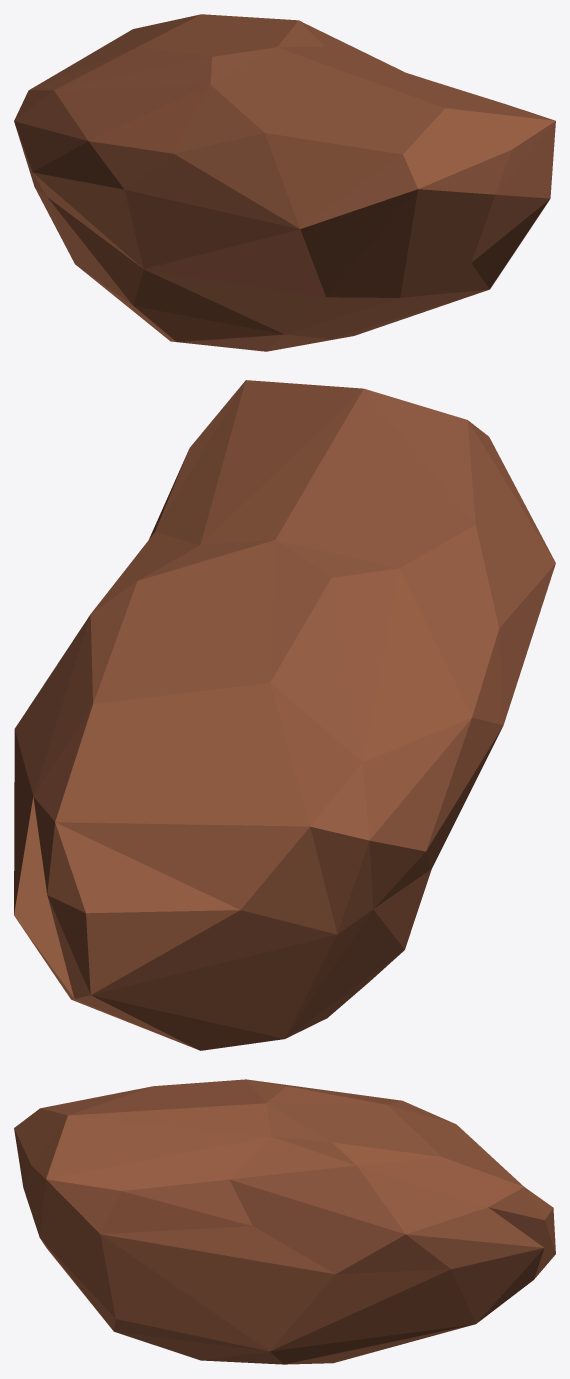
File: Asteroid.007.fbx
3 renders of one model, top to bottom at view 1: azimuth 30°, elevation 25°; view 2: azimuth 150°, elevation 25°; view 3: azimuth 270°, elevation 25°, orthographic. The views are drawn at different scales.
Parts seen in each view (by area): view 1: Asteroid.007; view 2: Asteroid.007; view 3: Asteroid.007.
Boxes of the visible parts, x1,y1,x2,y2 form: Asteroid.007: [14, 14, 555, 351]; Asteroid.007: [14, 380, 555, 1050]; Asteroid.007: [14, 1079, 555, 1364].
Size of the model in its own units: 6.04 by 5.38 by 9.9.
